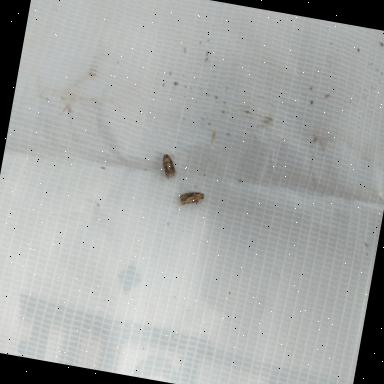pbw: (175, 189, 205, 214), (158, 153, 178, 182)
